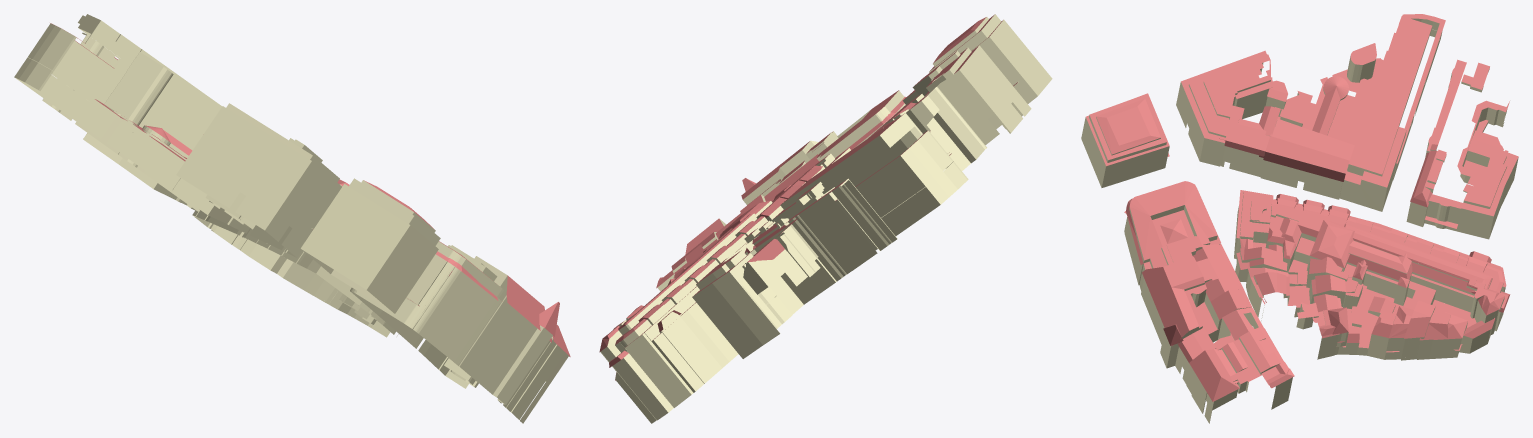
The model's file is tile_056.glb.
3 renders of one model, left to right at view 1: azimuth 30°, elevation 25°; view 2: azimuth 150°, elevation 25°; view 3: azimuth 270°, elevation 25°, orthographic. The views are drawn at different scales.
Visible parts, largest first — view 1: Batched_Building_ID_D6B2229D-487F-4140-92EA-64A93BA9C68C, Batched_Building_ID_1F1E2D7C-1EC1-499C-8E9F-539016CEB779; view 2: Batched_Building_ID_D6B2229D-487F-4140-92EA-64A93BA9C68C, Batched_Building_ID_1F1E2D7C-1EC1-499C-8E9F-539016CEB779; view 3: Batched_Building_ID_1F1E2D7C-1EC1-499C-8E9F-539016CEB779, Batched_Building_ID_D6B2229D-487F-4140-92EA-64A93BA9C68C.
Boxes of the visible parts, x1,y1,x2,y2 form: Batched_Building_ID_D6B2229D-487F-4140-92EA-64A93BA9C68C: [14, 14, 568, 423]; Batched_Building_ID_1F1E2D7C-1EC1-499C-8E9F-539016CEB779: [50, 23, 570, 356]; Batched_Building_ID_D6B2229D-487F-4140-92EA-64A93BA9C68C: [600, 14, 1052, 423]; Batched_Building_ID_1F1E2D7C-1EC1-499C-8E9F-539016CEB779: [599, 14, 1017, 380]; Batched_Building_ID_1F1E2D7C-1EC1-499C-8E9F-539016CEB779: [1086, 14, 1518, 401]; Batched_Building_ID_D6B2229D-487F-4140-92EA-64A93BA9C68C: [1081, 18, 1518, 423].
Size of the model in its own units: 165 by 148 by 197.
